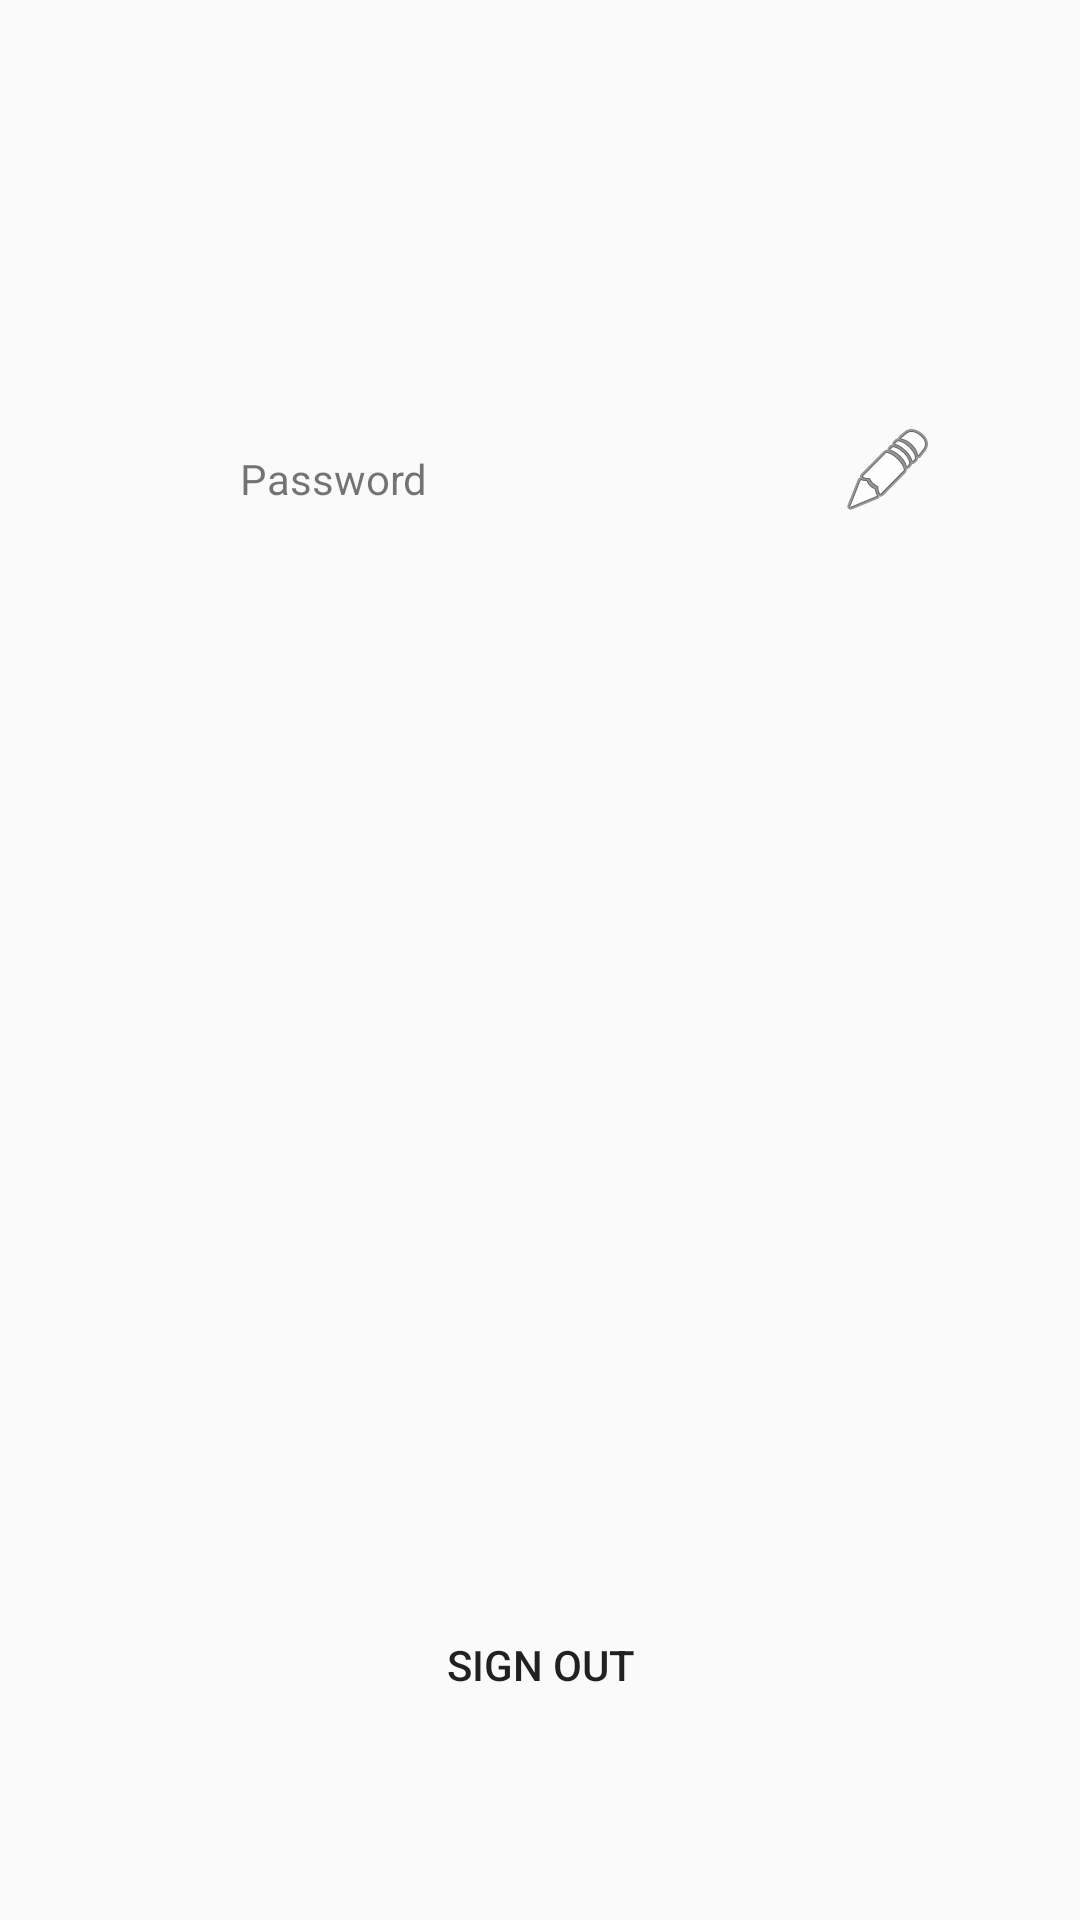

Named icons in this screenshot (1080px×1920px) and their centers, (x,y):
edit: (887,469)
